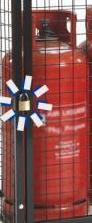cylinder: (1, 1, 92, 223)
